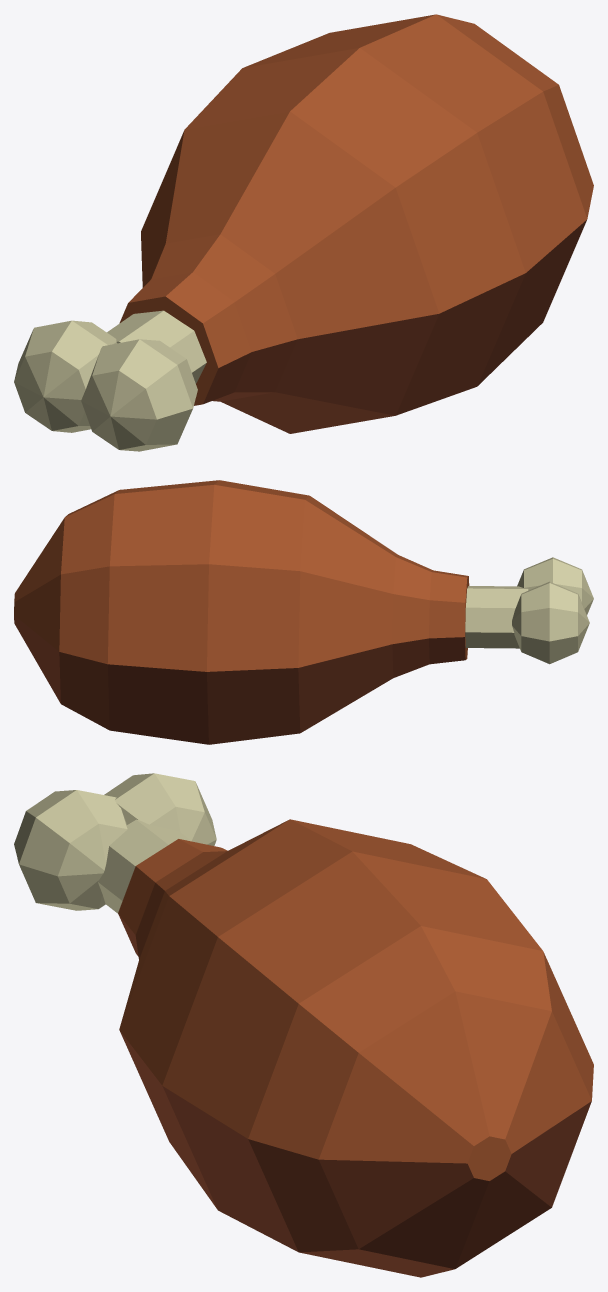
File: offobjects_food.fbx
3 renders of one model, top to bottom at view 1: azimuth 30°, elevation 25°; view 2: azimuth 150°, elevation 25°; view 3: azimuth 270°, elevation 25°, orthographic. The views are drawn at different scales.
Parts seen in each view (by area): view 1: cartoon meat, cartoon meat_bone_001, cartoon meat_bone_002, cartoon meat_bone; view 2: cartoon meat, cartoon meat_bone_002, cartoon meat_bone, cartoon meat_bone_001; view 3: cartoon meat, cartoon meat_bone_001, cartoon meat_bone_002, cartoon meat_bone.
Boxes of the visible parts, <box> form: cartoon meat: <box>119,14,593,433</box>; cartoon meat_bone_001: <box>81,339,197,451</box>; cartoon meat_bone_002: <box>14,320,116,432</box>; cartoon meat_bone: <box>107,310,206,383</box>; cartoon meat: <box>14,480,469,744</box>; cartoon meat_bone_002: <box>512,581,589,664</box>; cartoon meat_bone: <box>465,586,528,648</box>; cartoon meat_bone_001: <box>517,557,593,614</box>; cartoon meat: <box>118,819,593,1277</box>; cartoon meat_bone_001: <box>14,790,127,910</box>; cartoon meat_bone_002: <box>104,773,216,845</box>; cartoon meat_bone: <box>98,819,191,913</box>.
Bounding box in the file's own units: 183 × 96.09 × 131.
